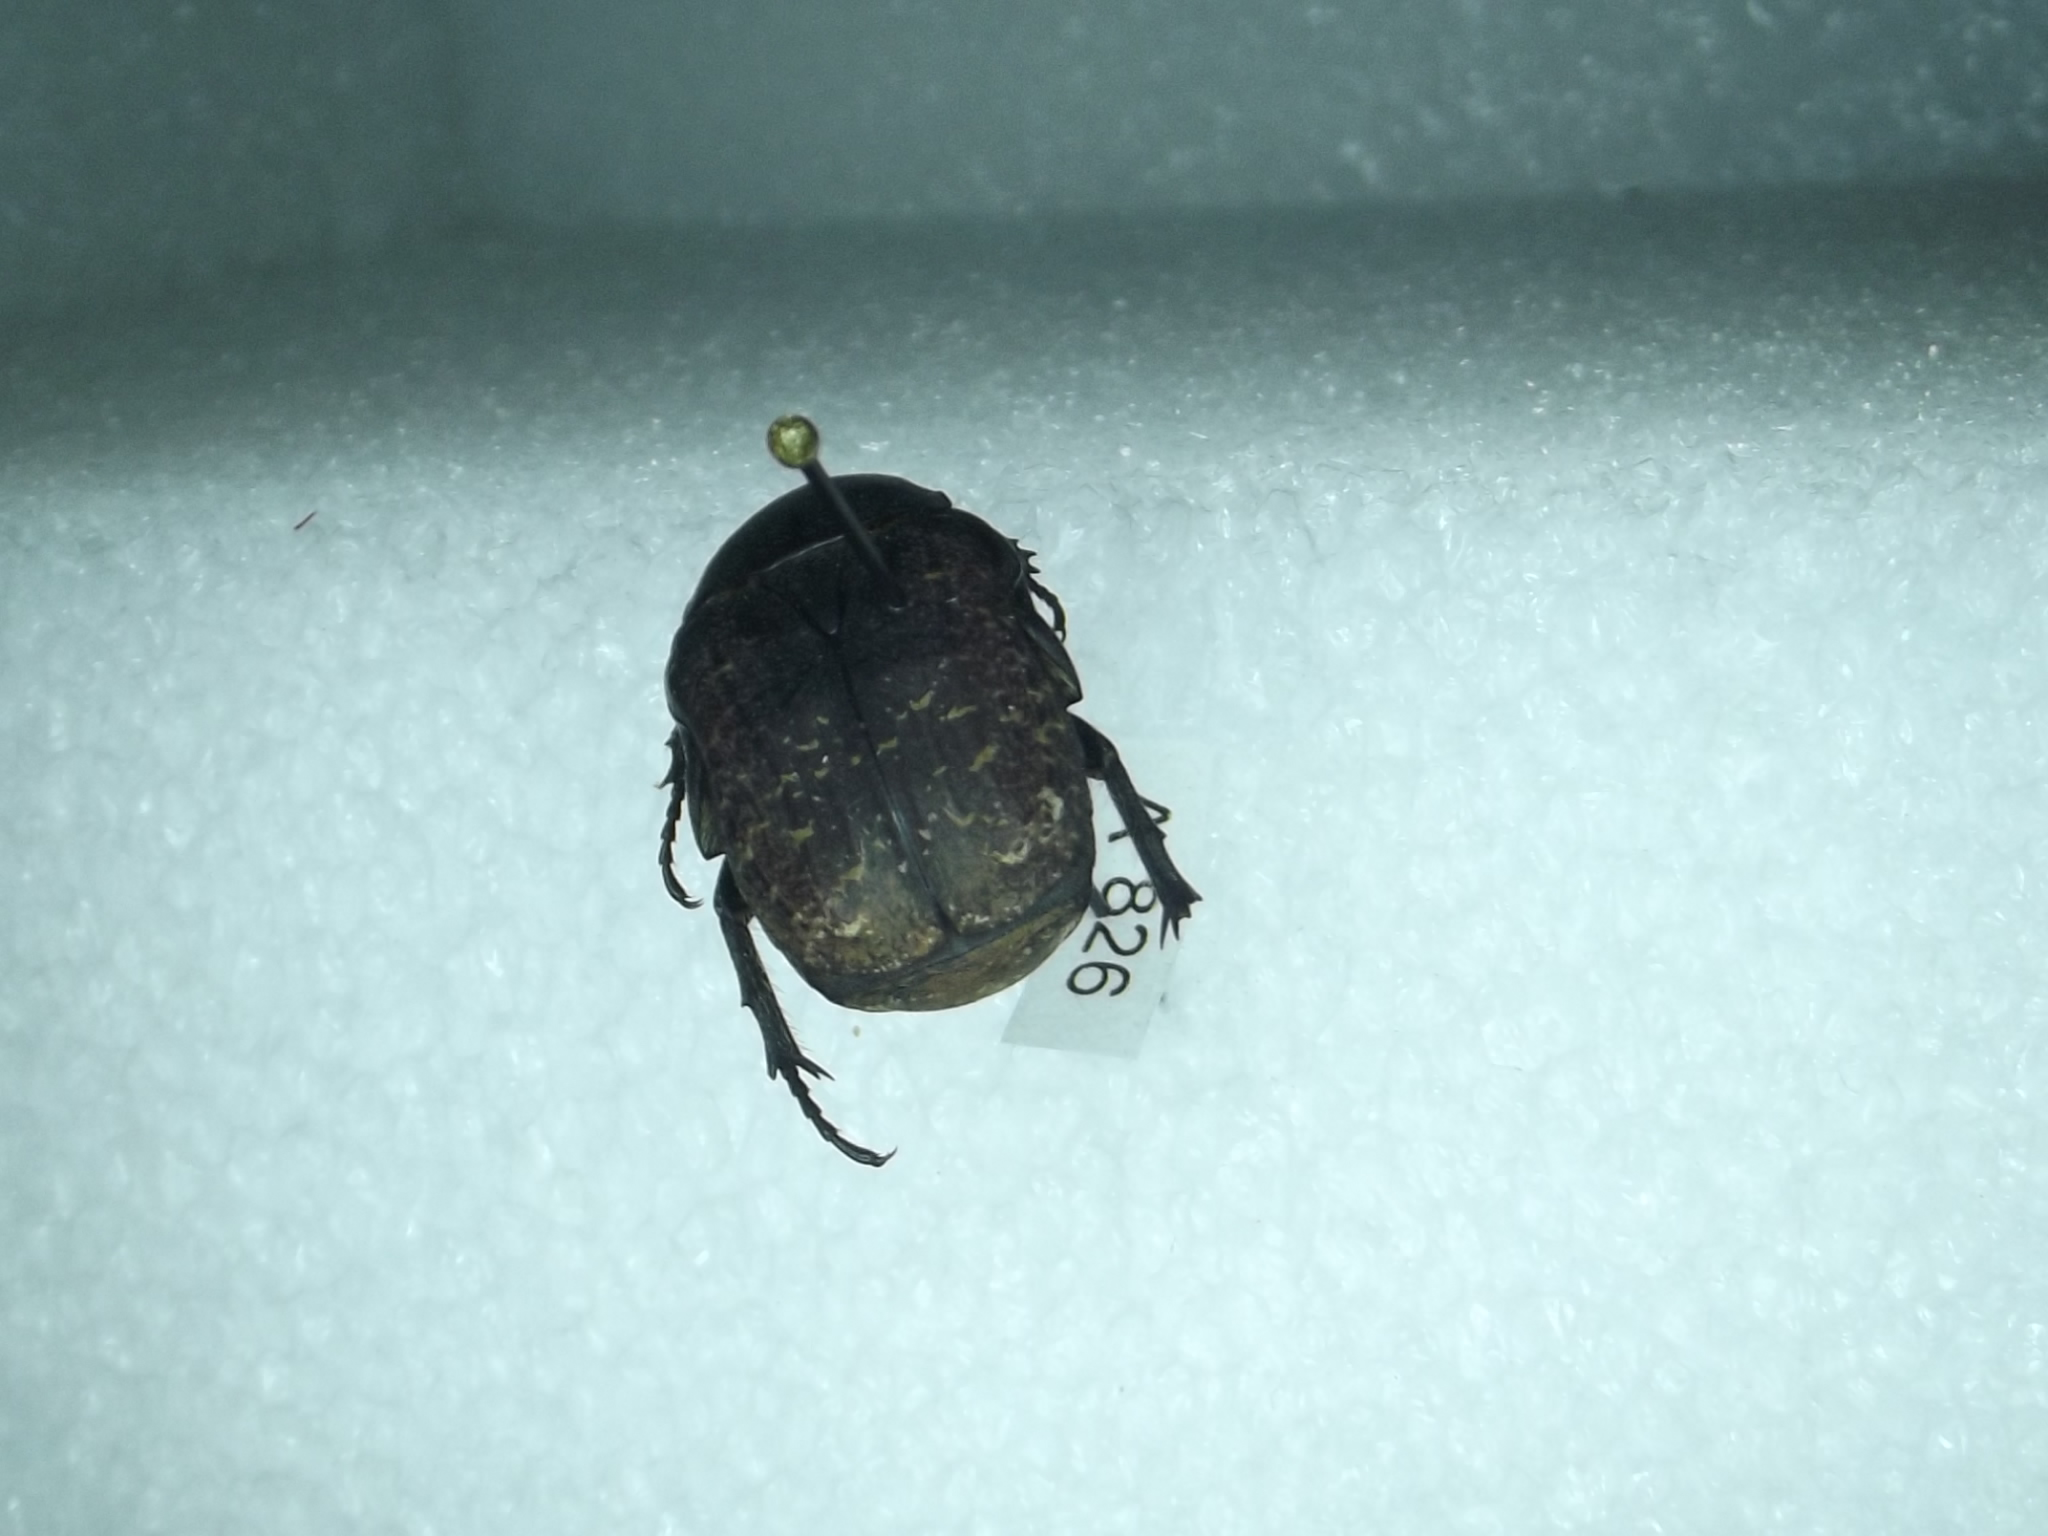Protaetia_oblonga: (647, 444, 1268, 1192)
